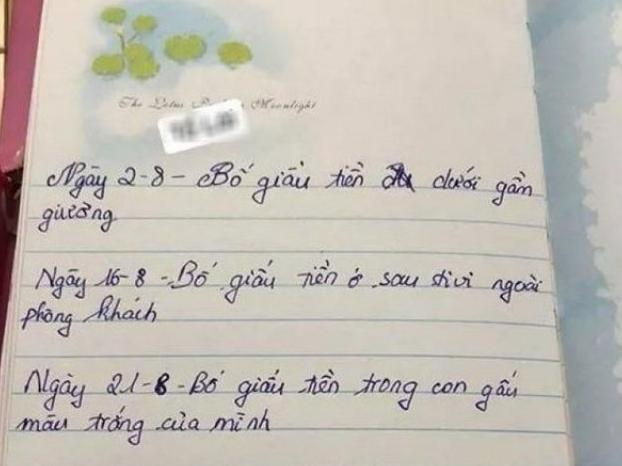text: (33, 256, 547, 308), (44, 157, 536, 208), (20, 366, 522, 415), (12, 404, 276, 450), (16, 292, 159, 341), (113, 95, 320, 117), (31, 198, 122, 237)
